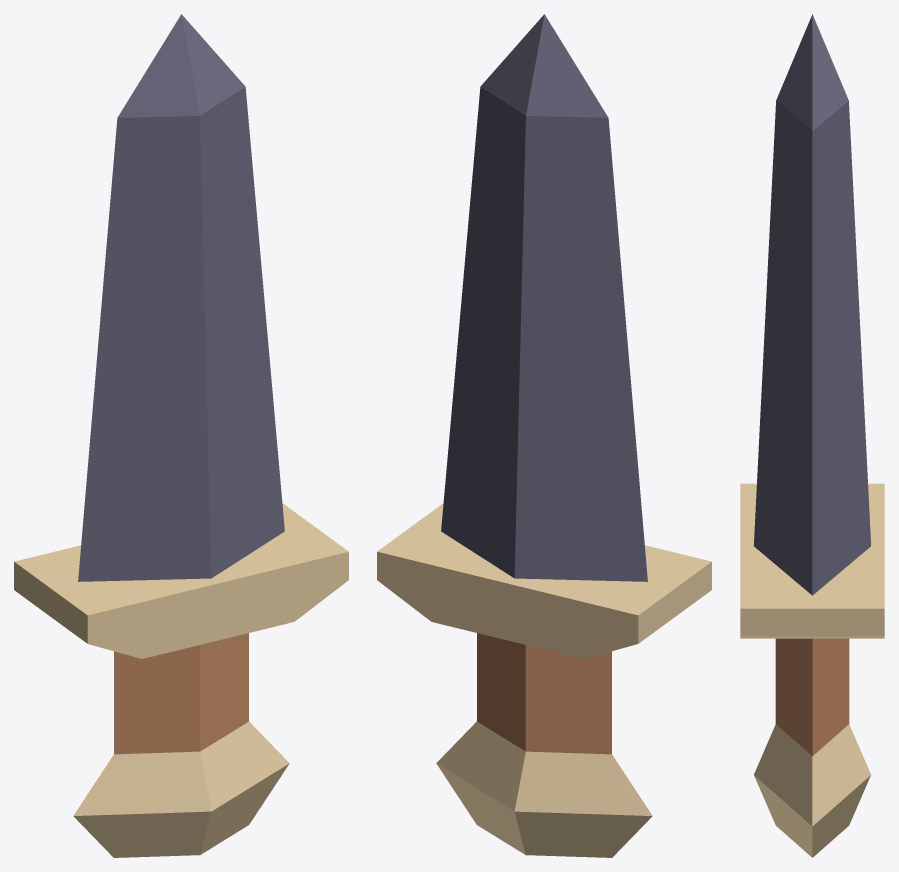
Rendered from Dagger.obj.
3 renders of one model, left to right at view 1: azimuth 30°, elevation 25°; view 2: azimuth 150°, elevation 25°; view 3: azimuth 270°, elevation 25°, orthographic.
Parts seen in each view (by area): view 1: blade_dagger, hilt, guard_slant; view 2: blade_dagger, hilt, guard_slant; view 3: blade_dagger, hilt, guard_slant.
Boxes of the visible parts, left/top/right/bottom form: blade_dagger: left=78, top=14, right=284, bottom=581; hilt: left=73, top=633, right=289, bottom=857; guard_slant: left=14, top=503, right=348, bottom=658; blade_dagger: left=441, top=14, right=647, bottom=581; hilt: left=436, top=633, right=652, bottom=857; guard_slant: left=377, top=503, right=711, bottom=658; blade_dagger: left=754, top=14, right=870, bottom=595; hilt: left=754, top=638, right=870, bottom=857; guard_slant: left=740, top=483, right=884, bottom=638.
Bounding box in the file's own units: 0.48 × 1.45 × 0.234.
